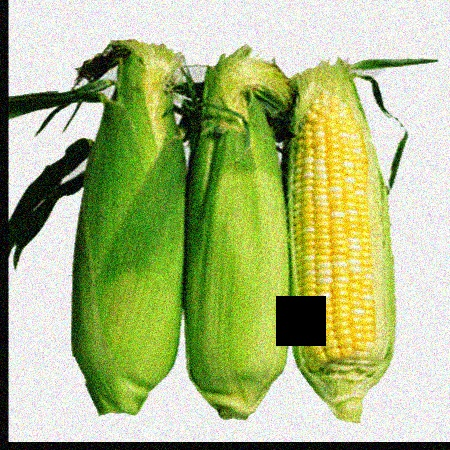corn: (287, 52, 395, 412)
corn_plant: (47, 30, 186, 417), (191, 51, 283, 410)
